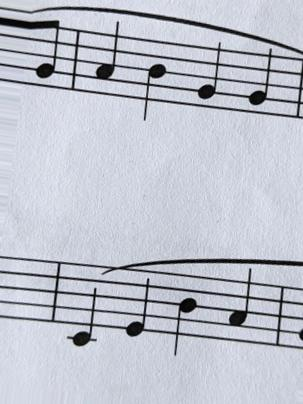A: (92, 17, 122, 103), (228, 264, 256, 353)
B: (168, 267, 200, 360), (139, 36, 168, 124)
E: (122, 265, 154, 341)
G: (246, 45, 274, 127), (193, 41, 224, 113)
LC: (66, 259, 105, 351)
